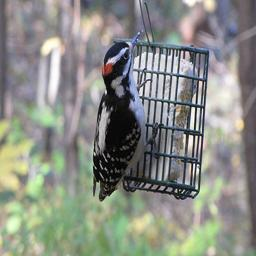Woodpecker: (93, 29, 163, 202)
